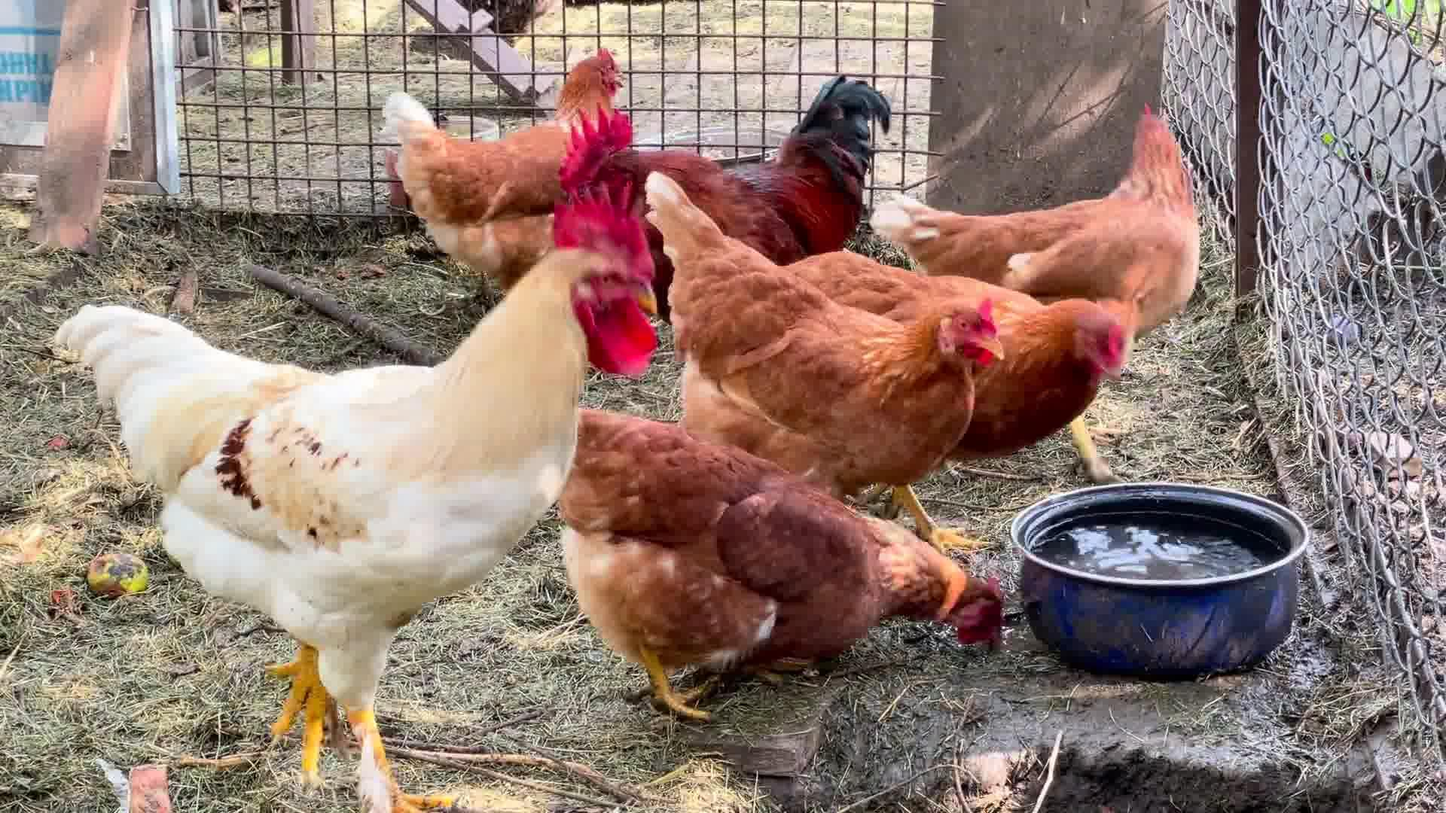Normal: (27, 192, 673, 810), (657, 170, 1207, 467), (584, 401, 1016, 740), (897, 85, 1266, 318), (351, 27, 649, 249), (627, 44, 894, 250)
